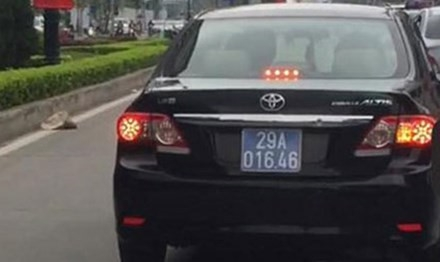plate: (239, 126, 301, 173)
